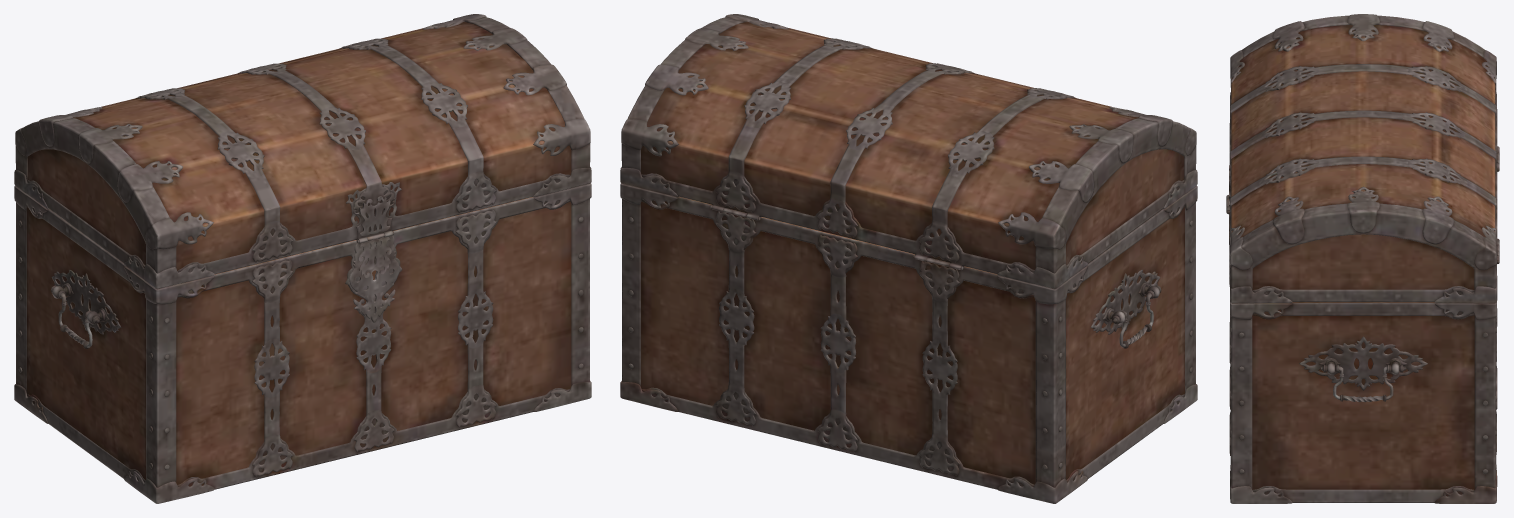
The model's file is treasure_chest.gltf.
3 renders of one model, left to right at view 1: azimuth 30°, elevation 25°; view 2: azimuth 150°, elevation 25°; view 3: azimuth 270°, elevation 25°, orthographic. The views are drawn at different scales.
Parts seen in each view (by area): view 1: treasure_chest_bottom, treasure_chest_lid, treasure_chest_lock; view 2: treasure_chest_bottom, treasure_chest_lid; view 3: treasure_chest_lid, treasure_chest_bottom, treasure_chest_handle_right.
Boxes of the visible parts, x1,y1,x2,y2 form: treasure_chest_bottom: (14,183,591,503); treasure_chest_lid: (14,14,591,288); treasure_chest_lock: (349,233,399,322); treasure_chest_bottom: (620,183,1197,503); treasure_chest_lid: (620,14,1197,288); treasure_chest_lid: (1226,14,1499,303); treasure_chest_bottom: (1229,152,1499,503); treasure_chest_handle_right: (1320,365,1406,402).
Size of the model in its own units: 0.959 by 0.6189 by 0.5229.
1 material, 1 textured.
